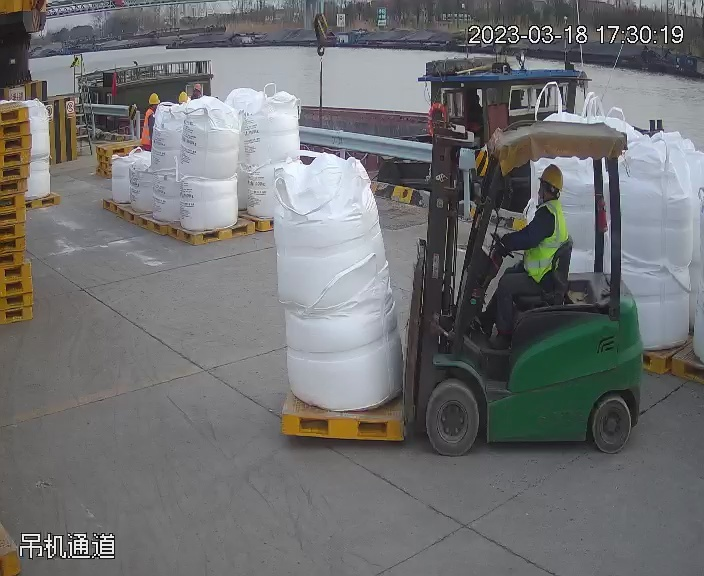head: (519, 162, 568, 235), (140, 91, 161, 120)
helmet: (538, 162, 566, 192), (147, 91, 162, 104), (177, 90, 189, 102), (191, 82, 203, 90)
people: (475, 164, 571, 343), (138, 91, 161, 154)
